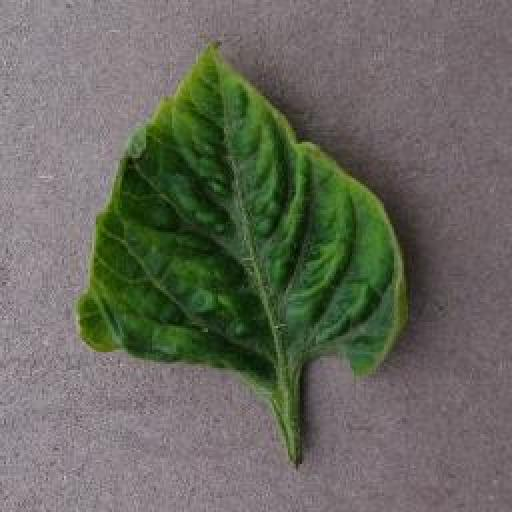Yellow Leaf Curl Virus: (75, 44, 415, 381)
